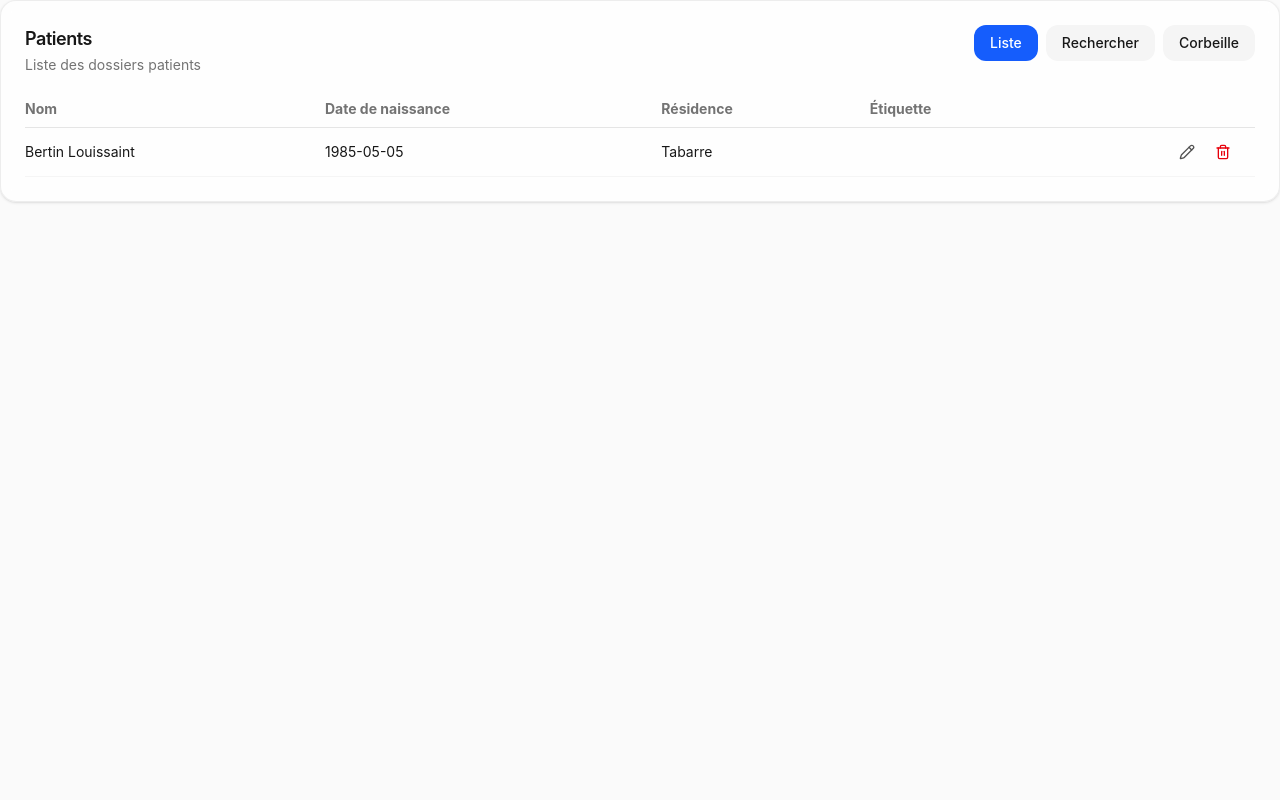
PatientsPage › lets a superadmin edit a patient's info from the list
Expected: the text "Bertin Louissaint" is shown, [25, 128, 325, 176]
Click the button named "Modifier" at (1187, 152), box [1171, 136, 1203, 168]
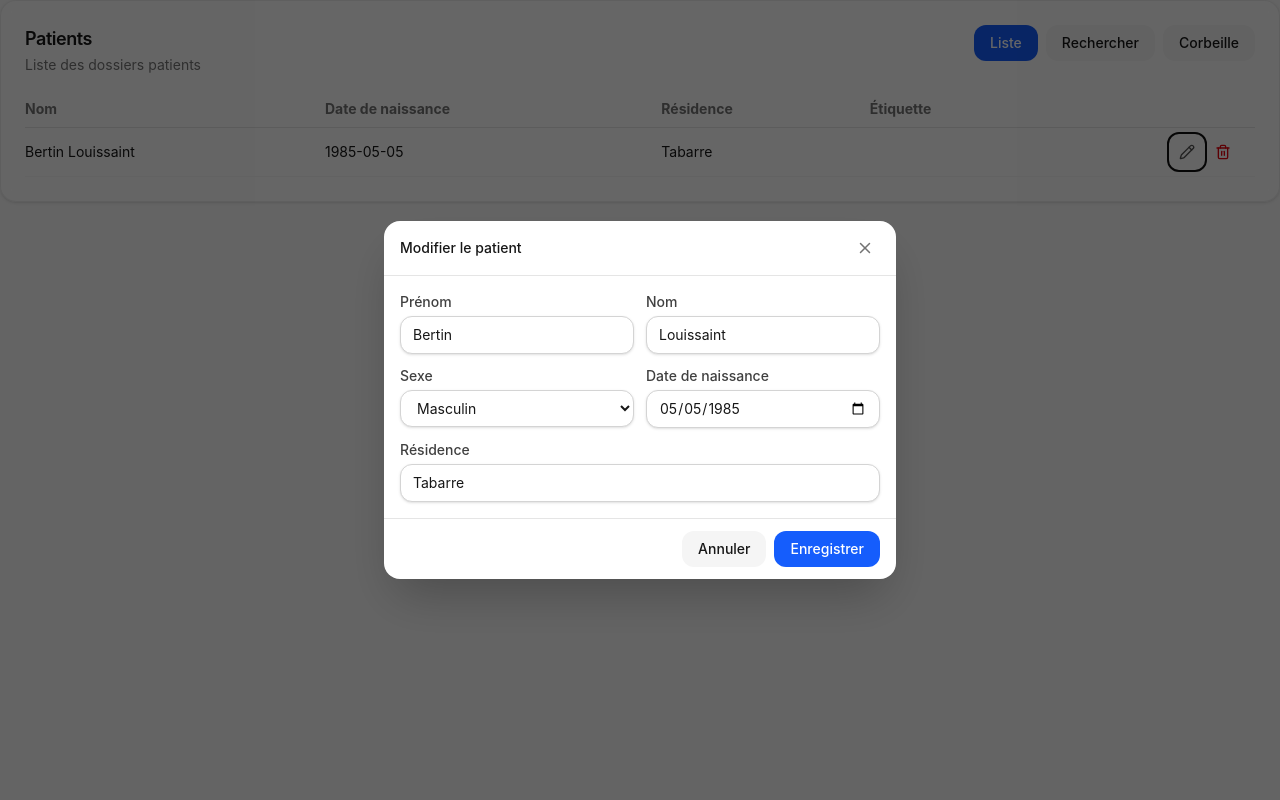
Expected: the field labelled "Prénom" holds "Bertin", [400, 316, 634, 354]
Replace the text in the field labelled "Résidence" with "Delmas" at (640, 483), box [400, 464, 880, 502]
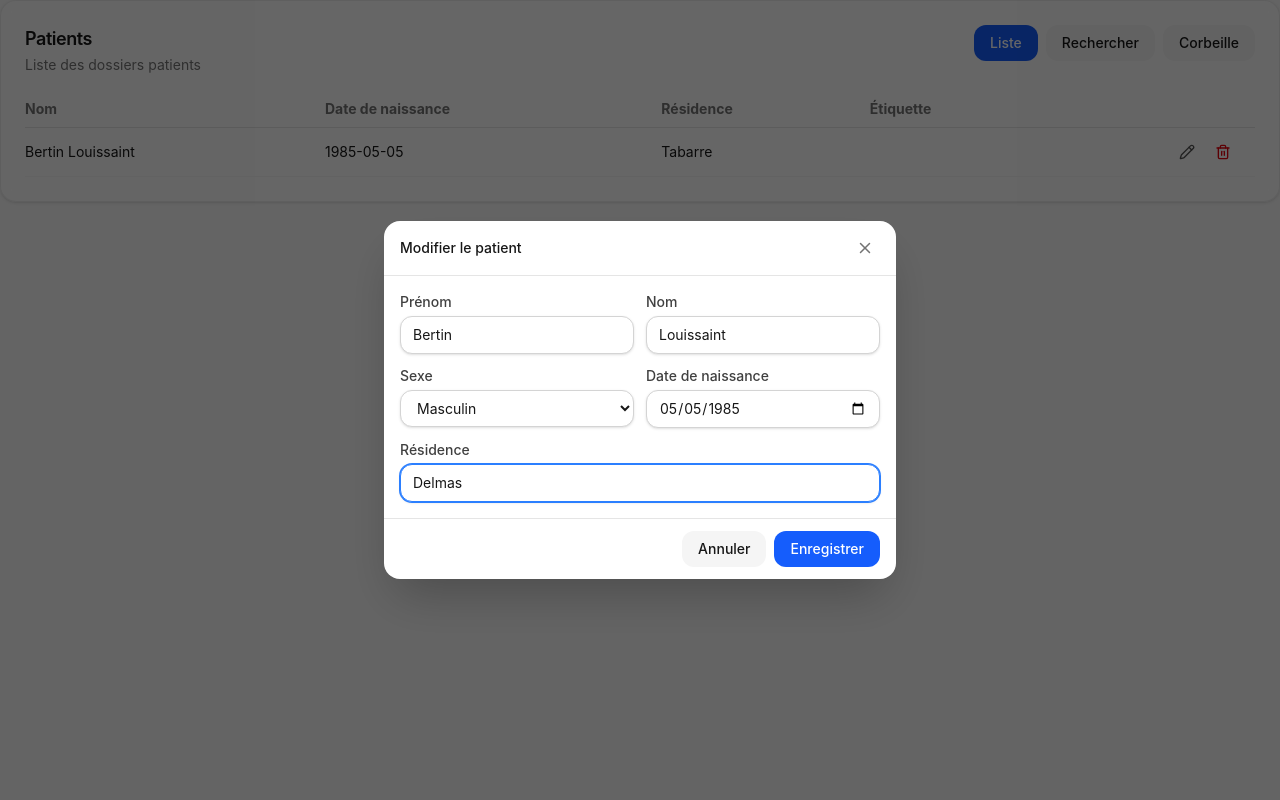
Select "Féminin" in the dropdown labelled "Sexe" at (517, 408), box [400, 390, 634, 427]
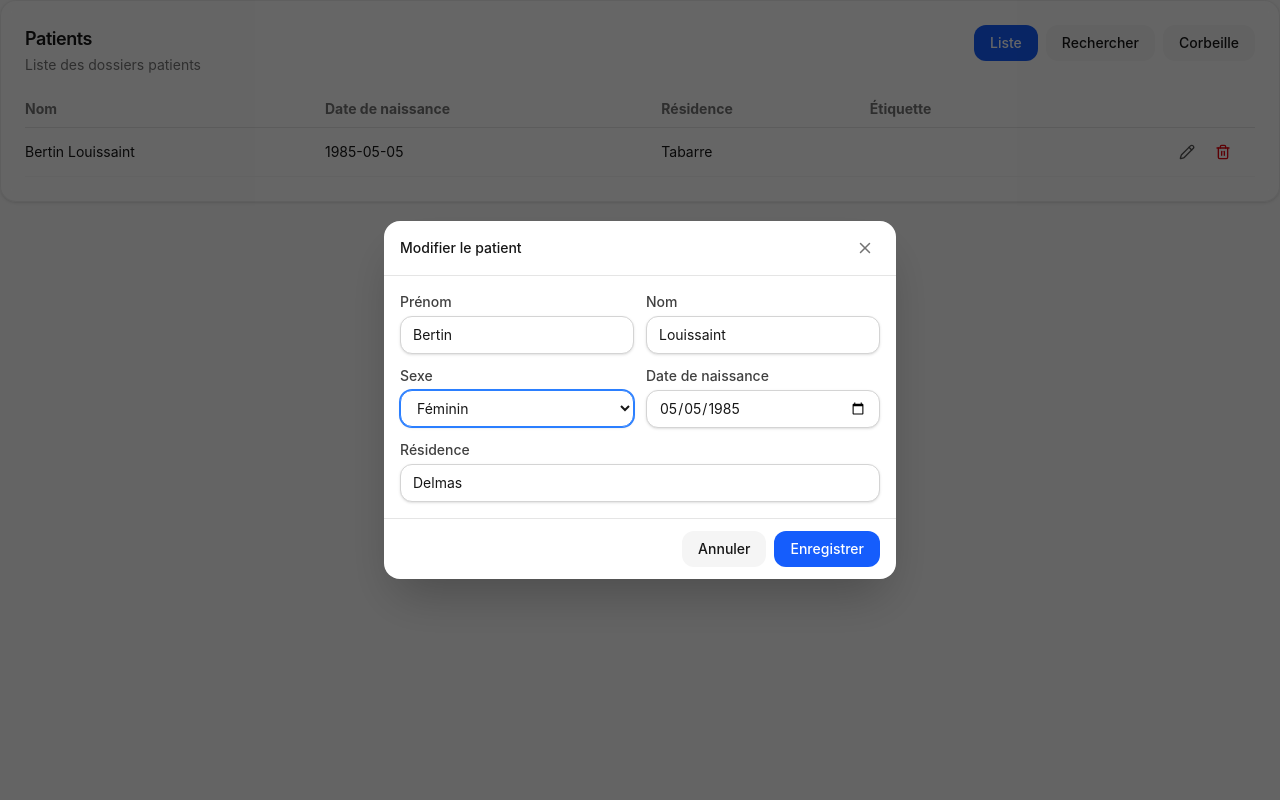
Type "1990-01-01" into the date field labelled "Date de naissance" at (763, 409), box [646, 390, 880, 428]
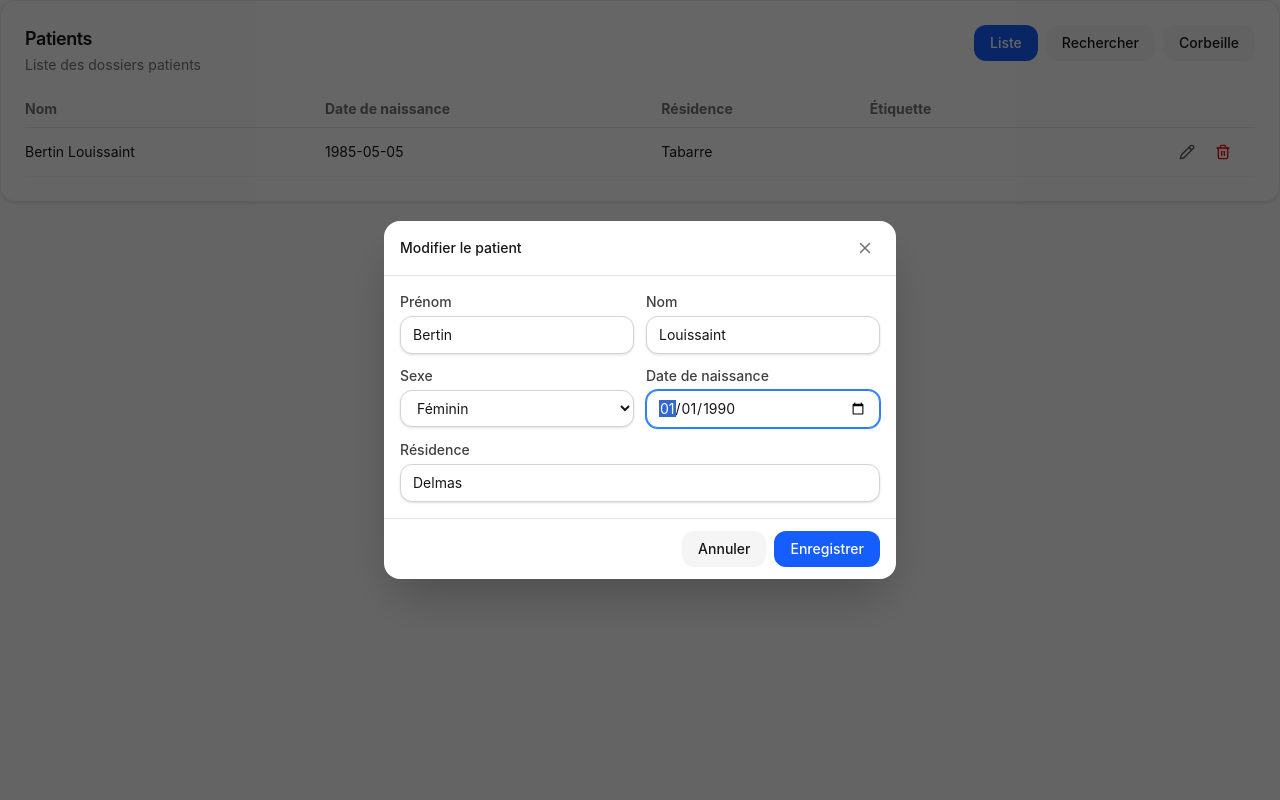
Click the button "Enregistrer" at (827, 549), box [774, 531, 880, 567]
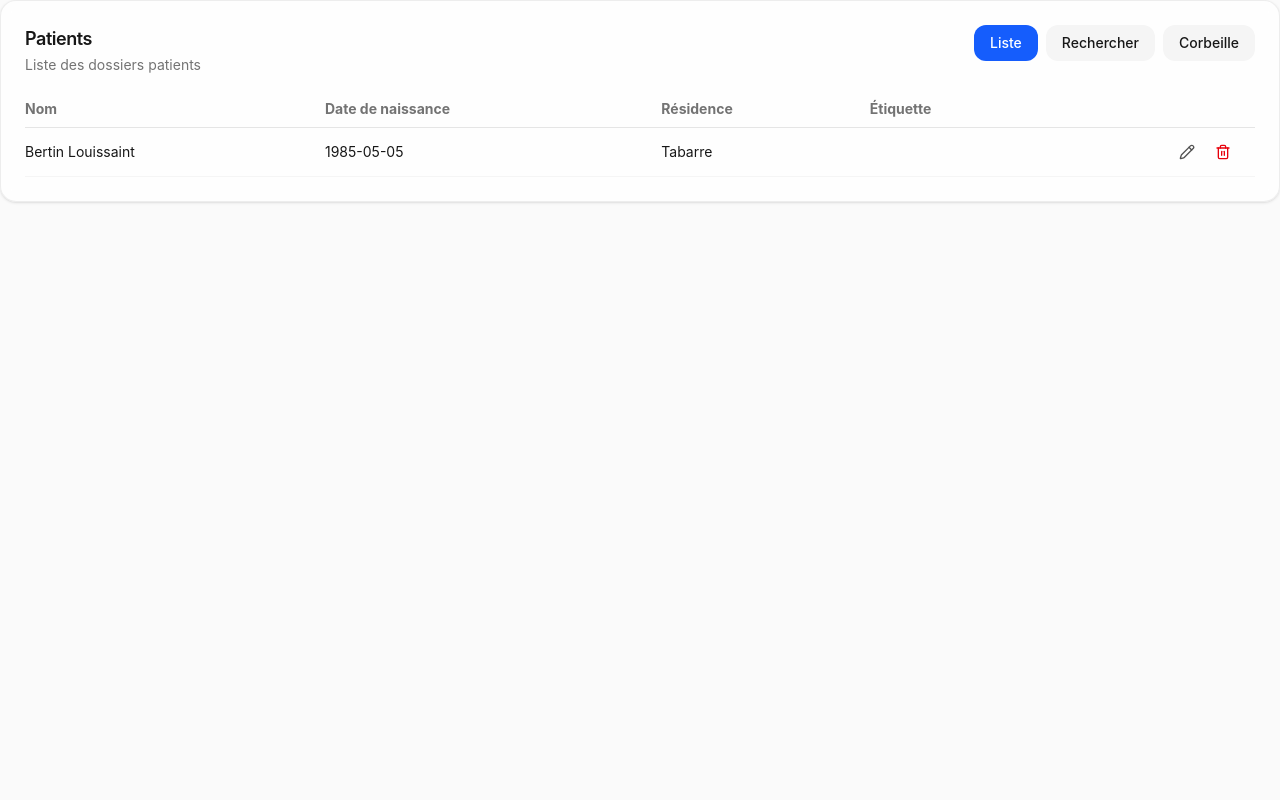
Expected: the text "Modifier le patient" is gone
